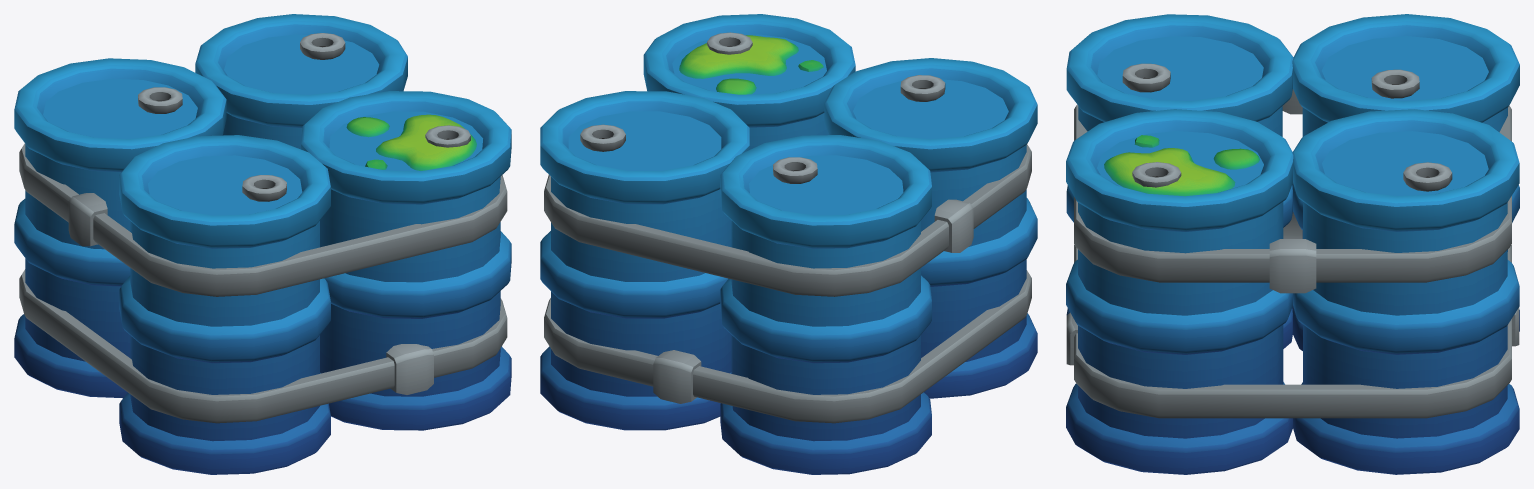
The model's file is kk_fuel_barrels.glb.
3 renders of one model, left to right at view 1: azimuth 30°, elevation 25°; view 2: azimuth 150°, elevation 25°; view 3: azimuth 270°, elevation 25°, orthographic. The views are drawn at different scales.
Visible parts, largest first — view 1: Fuel_C_Barrels; view 2: Fuel_C_Barrels; view 3: Fuel_C_Barrels.
Boxes of the visible parts, x1,y1,x2,y2 form: Fuel_C_Barrels: [14, 14, 511, 474]; Fuel_C_Barrels: [540, 14, 1037, 474]; Fuel_C_Barrels: [1066, 14, 1519, 474].
Bounding box in the file's own units: 1.35 × 0.9 × 1.35.
Materials: 1 (1 with a texture image).
